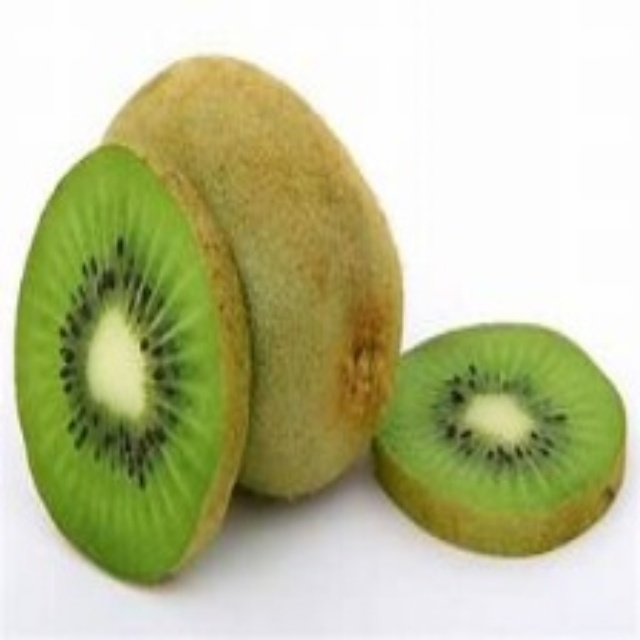kiwi: (102, 44, 396, 486), (13, 152, 247, 584), (370, 312, 628, 570)
